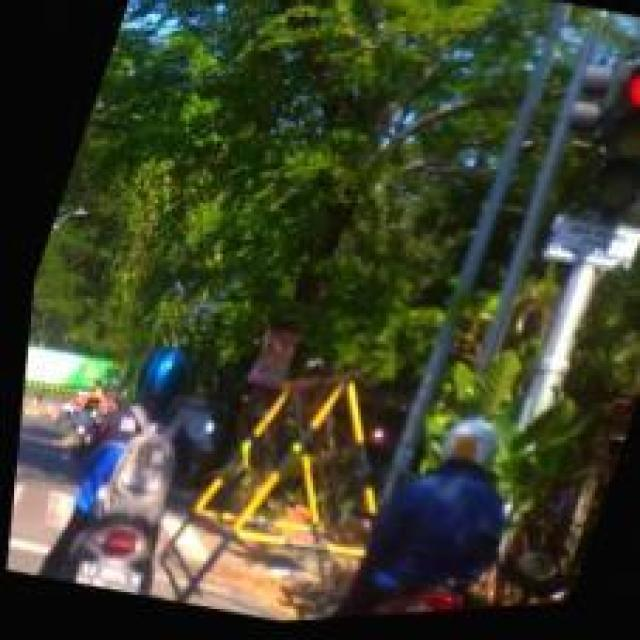red light: (571, 60, 636, 238)
